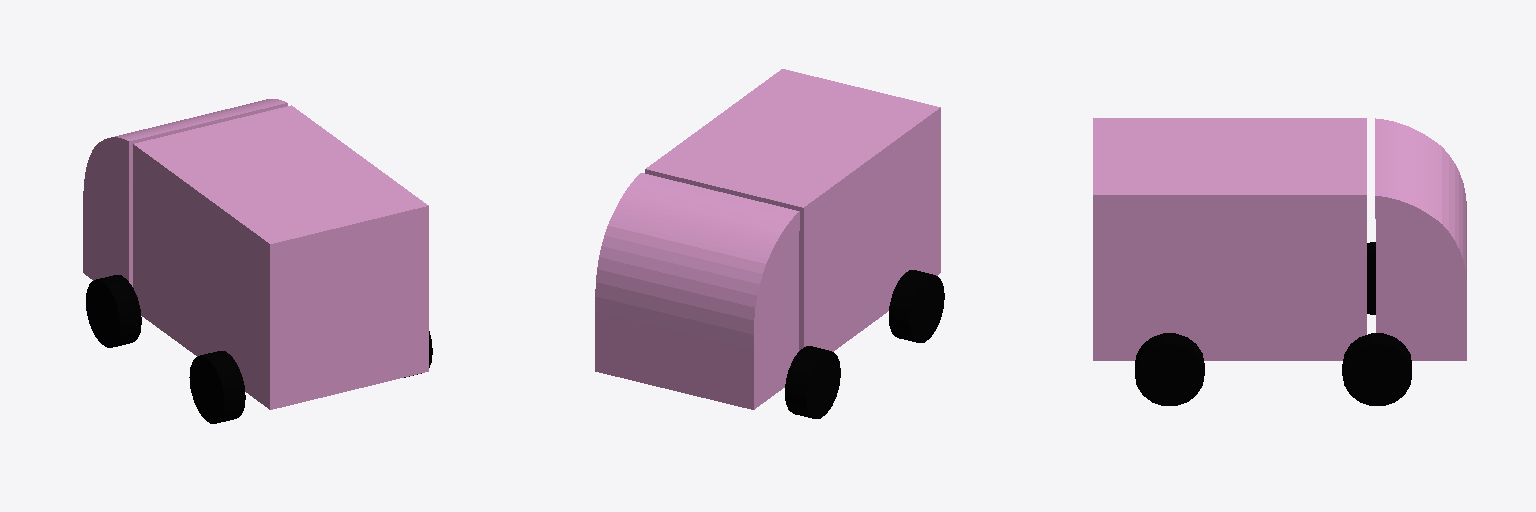
File: Bus.obj
3 renders of one model, left to right at view 1: azimuth 30°, elevation 25°; view 2: azimuth 150°, elevation 25°; view 3: azimuth 270°, elevation 25°, orthographic.
Visible parts, largest first — view 1: Box001, Box002, Cylinder004, Cylinder003; view 2: Box001, Box002, Cylinder003, Cylinder004; view 3: Box001, Box002, Cylinder002, Cylinder001, Cylinder003.
Boxes of the visible parts, <box> form: Box001: <box>133,105,428,409</box>; Box002: <box>83,99,287,286</box>; Cylinder004: <box>189,351,245,423</box>; Cylinder003: <box>86,275,141,347</box>; Box001: <box>645,69,940,351</box>; Box002: <box>595,173,799,409</box>; Cylinder003: <box>785,346,840,418</box>; Cylinder004: <box>889,270,944,342</box>; Box001: <box>1093,118,1366,360</box>; Box002: <box>1375,118,1466,360</box>; Cylinder002: <box>1135,333,1204,405</box>; Cylinder001: <box>1342,333,1411,405</box>; Cylinder003: <box>1367,242,1375,314</box>.
Size of the model in its own units: 1.31 by 1.2 by 2.05.